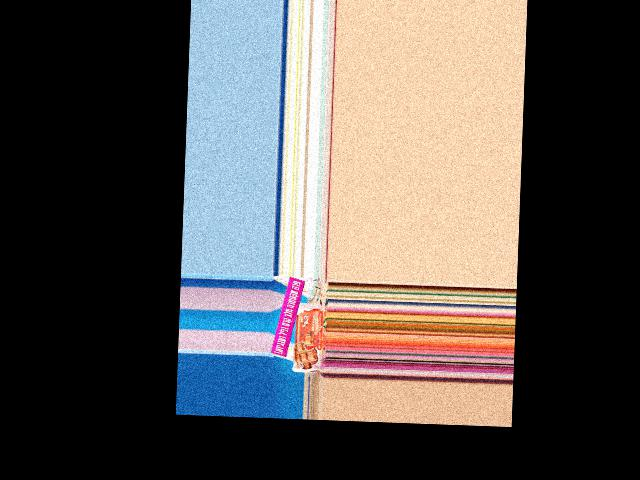chocolate: (291, 301, 325, 374)
